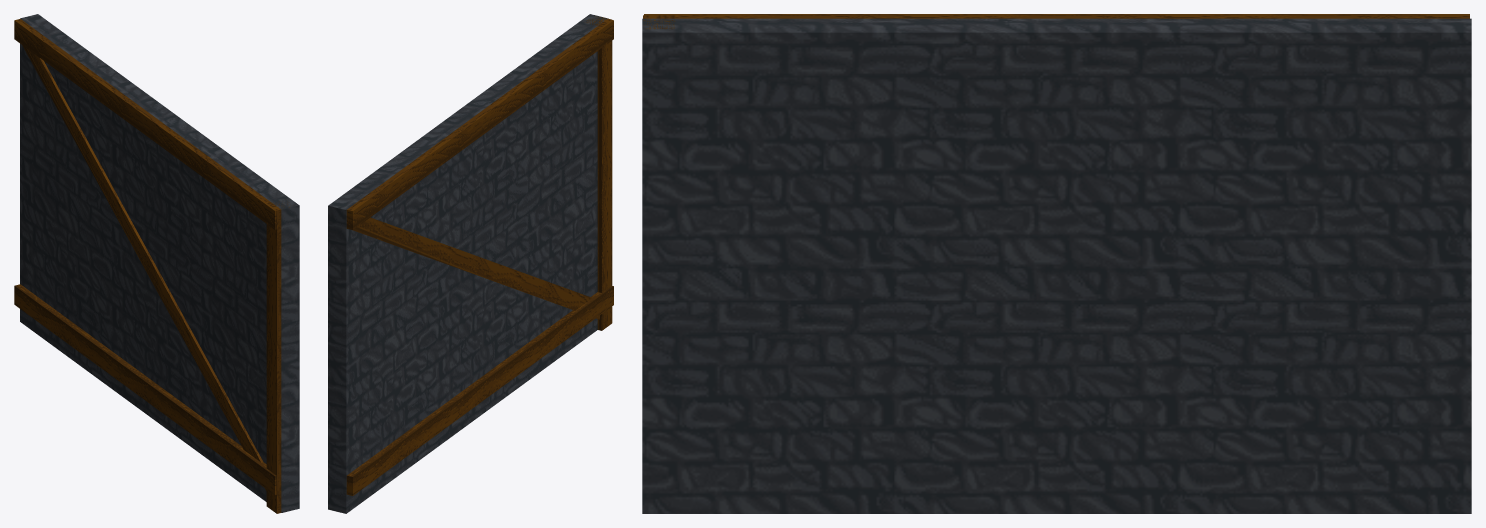
File: Wand 5m V4.fbx
3 views of the same model, side by side, from view 1: azimuth 30°, elevation 25°; view 2: azimuth 150°, elevation 25°; view 3: azimuth 270°, elevation 25° (orthographic). The views are drawn at different scales.
Parts seen in each view (by area): view 1: Cube.022; view 2: Cube.022; view 3: Cube.022.
Boxes of the visible parts, <box> form: Cube.022: <box>14,14,299,513</box>; Cube.022: <box>328,14,613,513</box>; Cube.022: <box>642,14,1471,513</box>.
Size of the model in its own units: 26.77 by 500 by 320.
1 material, 1 textured.
